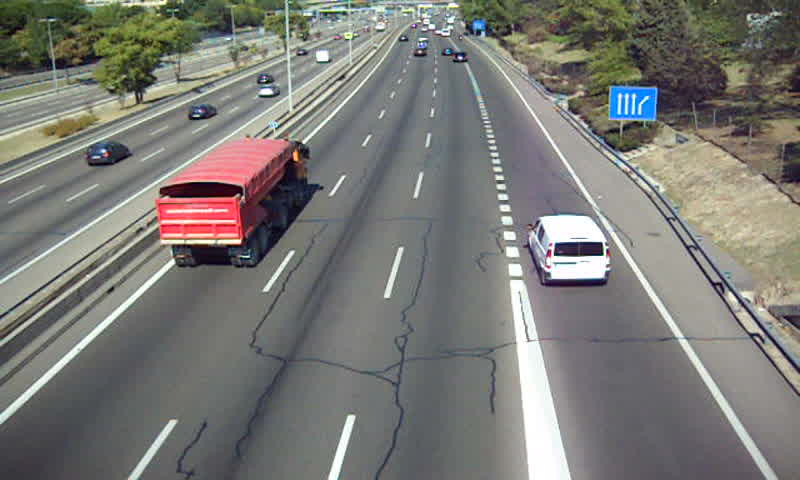truck: (158, 138, 309, 268)
van: (525, 215, 611, 285)
